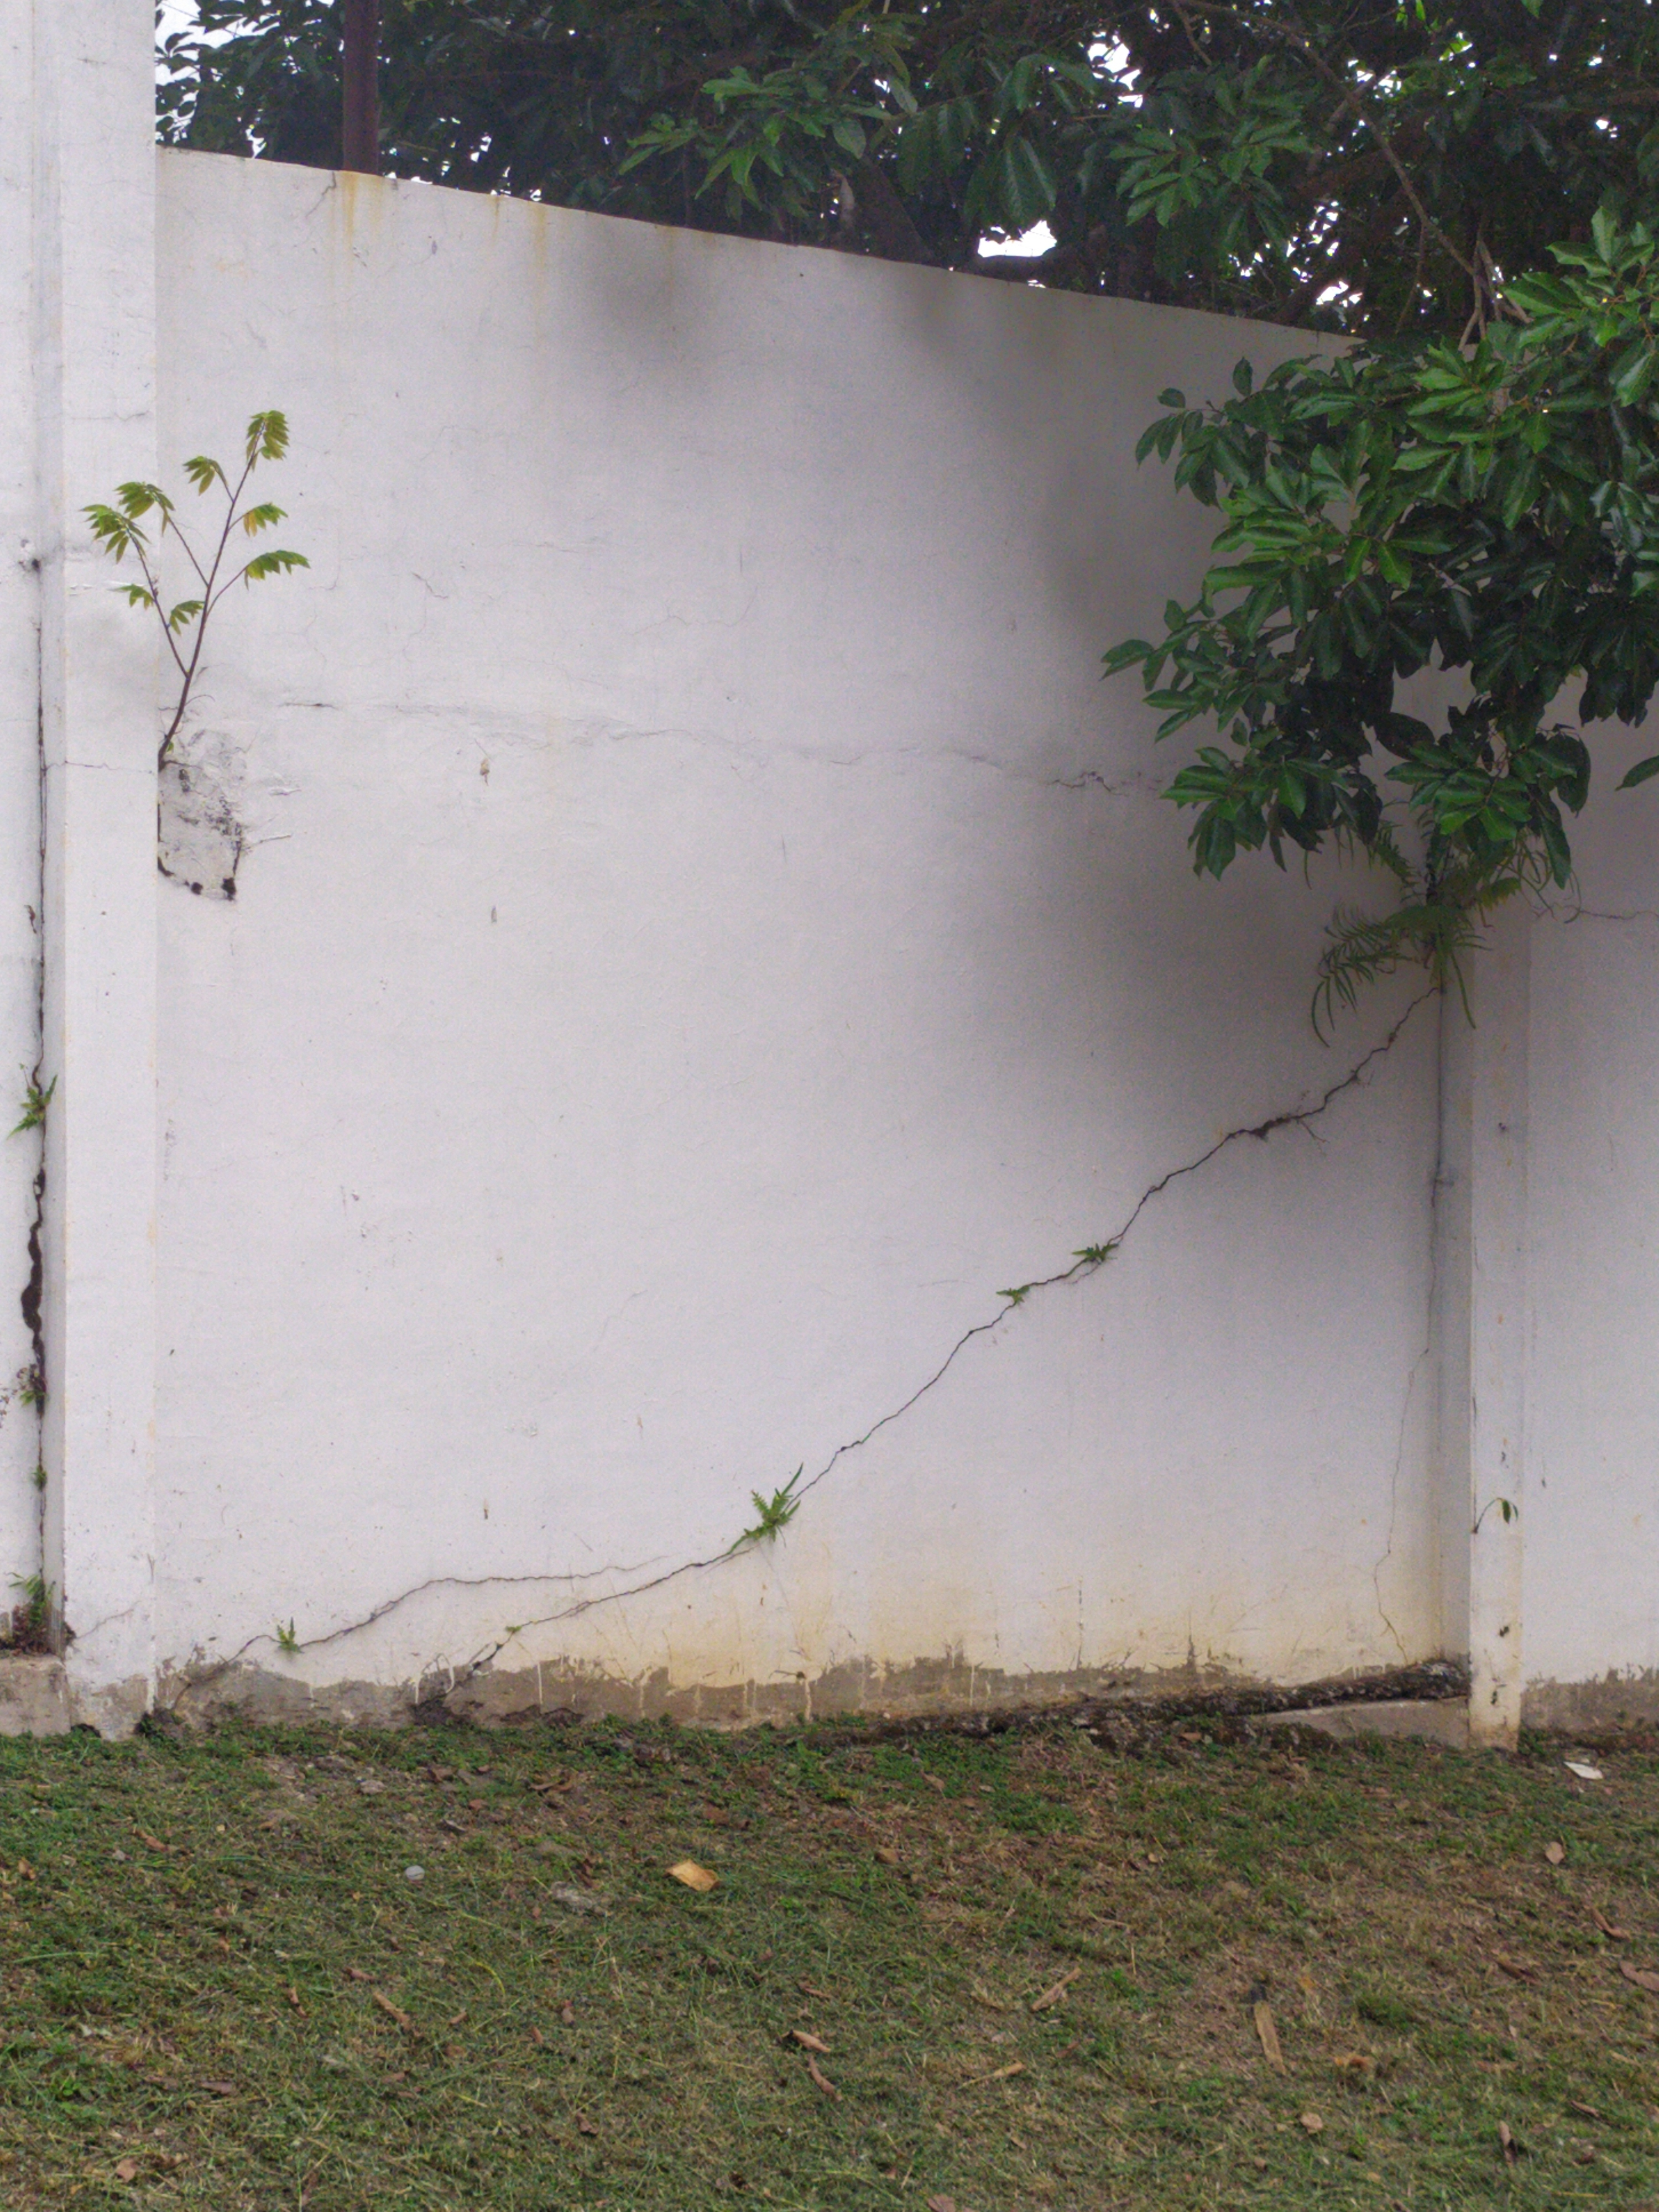crack: (197, 960, 1459, 1695), (1047, 763, 1129, 801)
